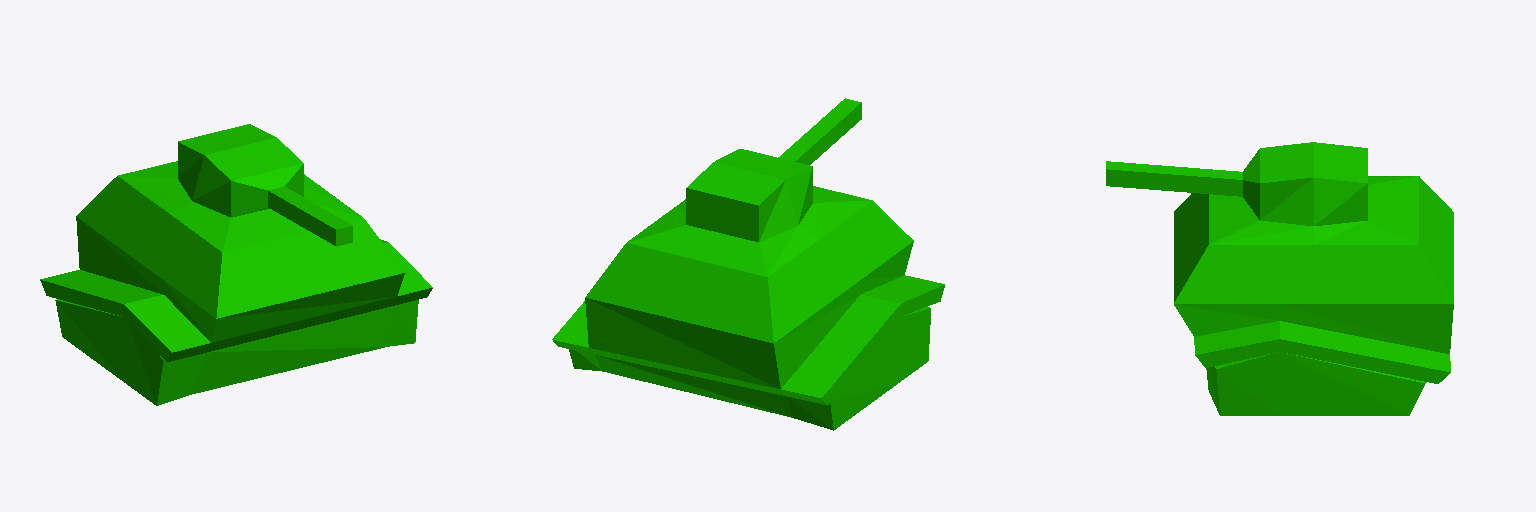
Rendered from Tank5x5.obj.
3 views of the same model, side by side, from view 1: azimuth 30°, elevation 25°; view 2: azimuth 150°, elevation 25°; view 3: azimuth 270°, elevation 25° (orthographic).
Visible parts, largest first — view 1: Cube; view 2: Cube; view 3: Cube.
Boxes of the visible parts, <box> form: Cube: <box>40,124,432,405</box>; Cube: <box>552,98,944,430</box>; Cube: <box>1106,142,1453,415</box>.
Bounding box in the file's own units: 3.33 × 2.29 × 3.72.